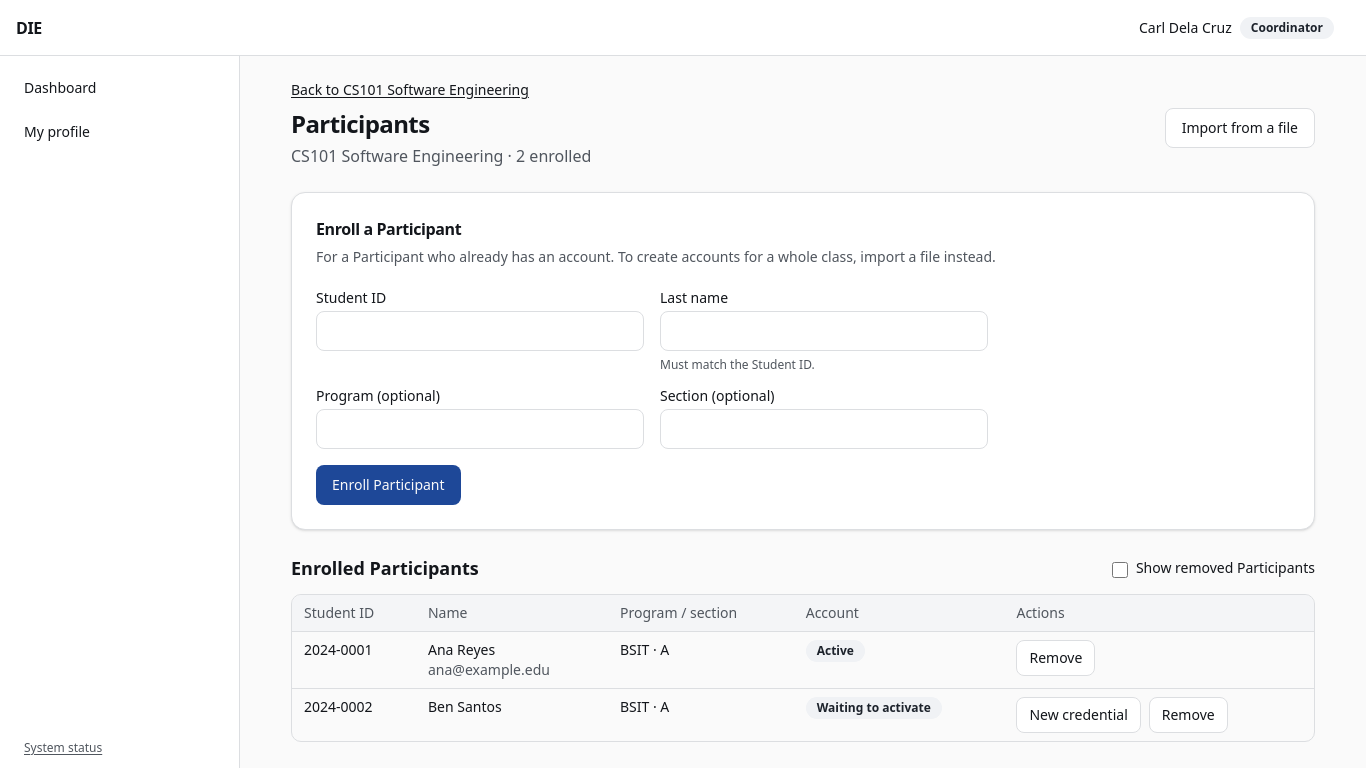
Scenario: Enroll a Participant › shows the API message when nobody matches, without saying which part was wrong
The image size is (1366, 768).
Type "2024-0099" into the field labelled "Student ID" at point(480, 331), box [316,311,644,351]
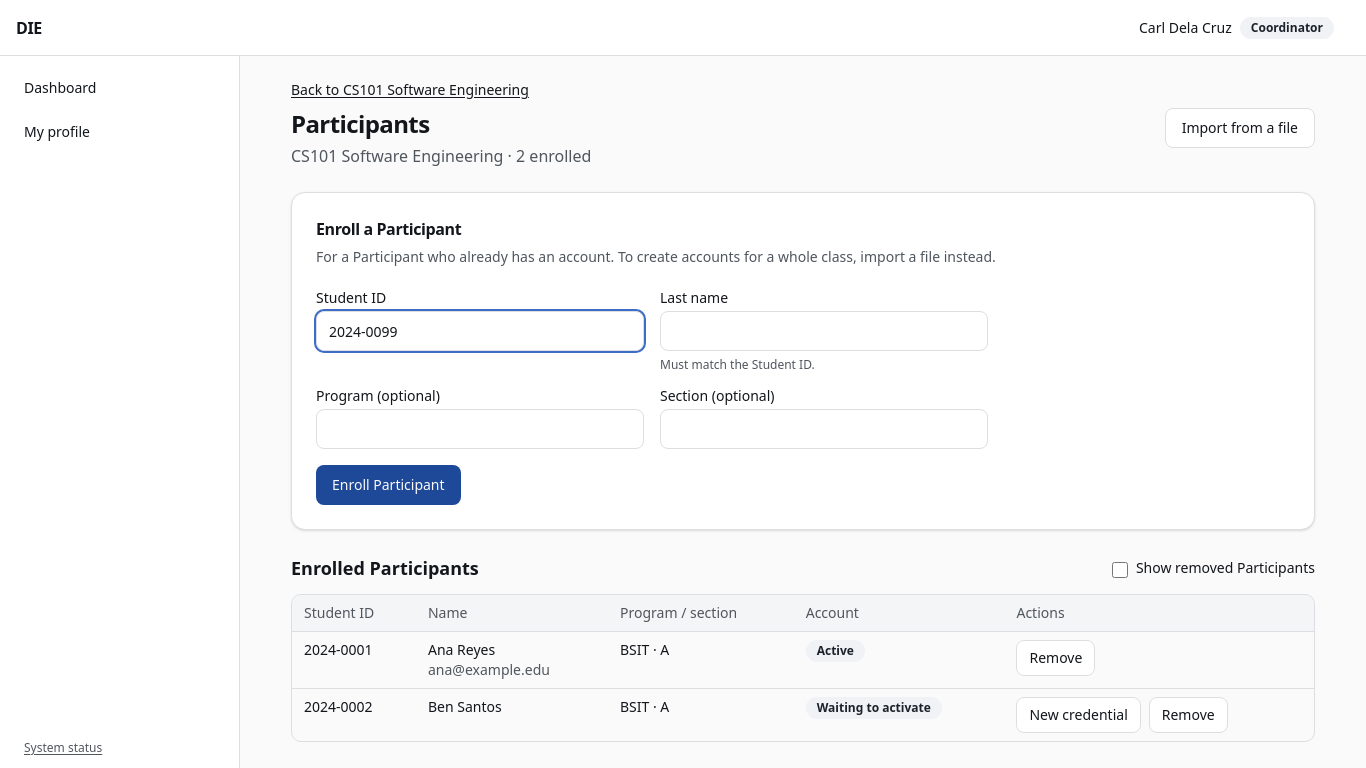
Type "Nobody" into the field labelled "Last name" at point(824, 331), box [660,311,988,351]
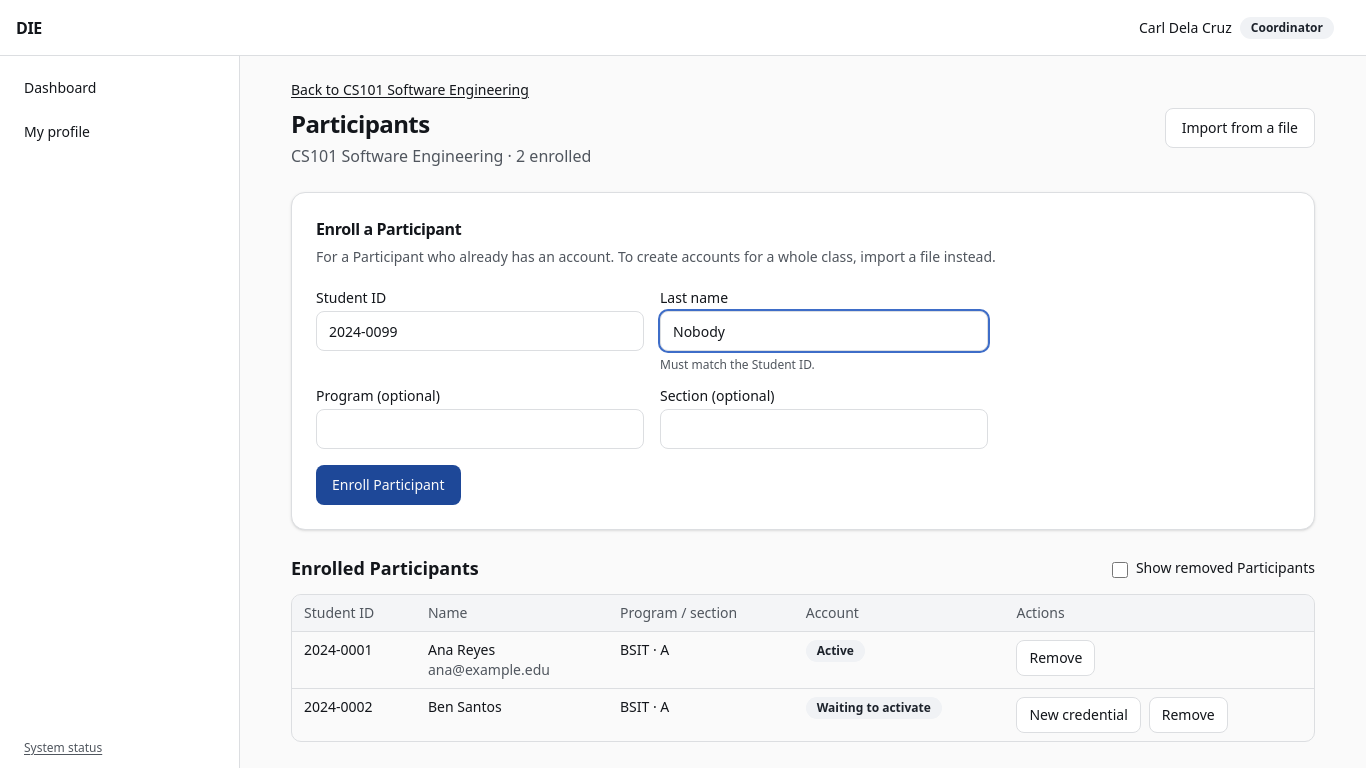
Click the button "Enroll Participant" at point(388, 485), box [316,465,460,505]
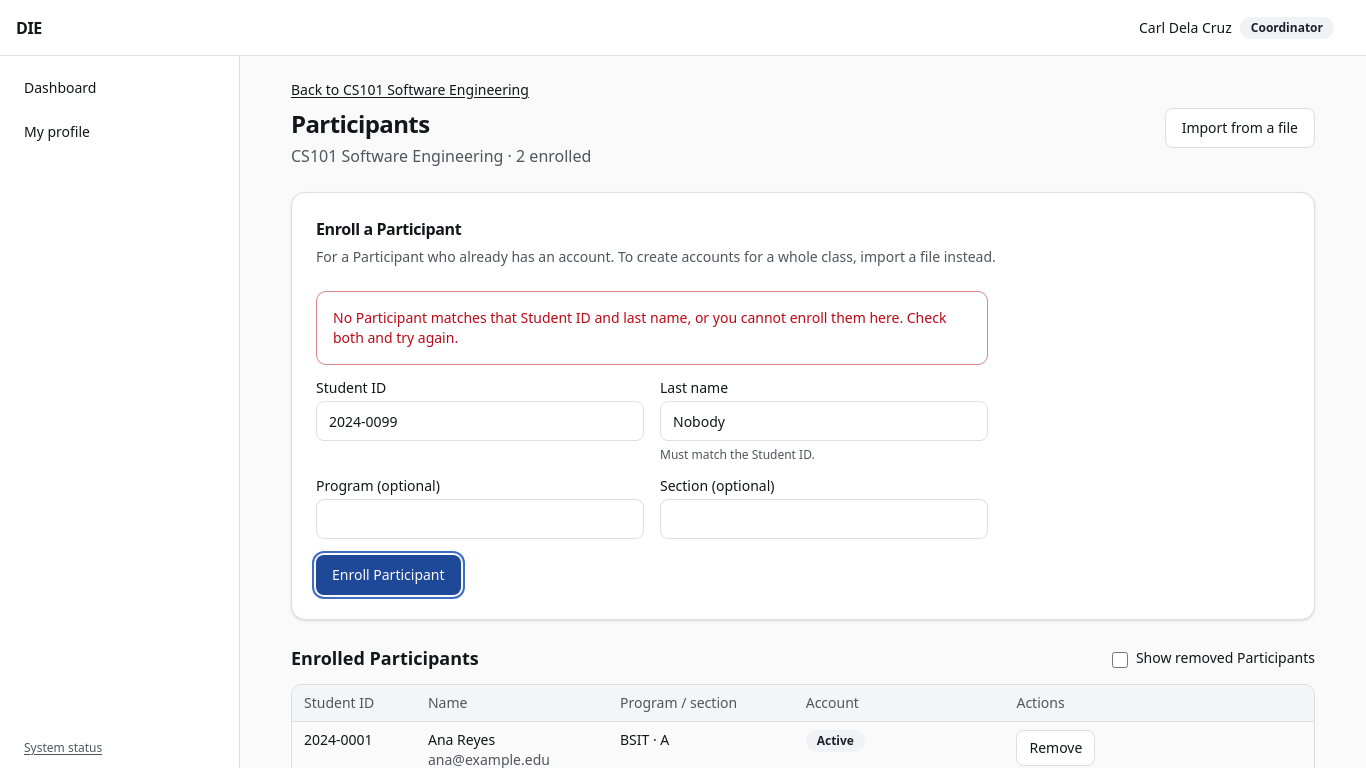
Result: the text "No Participant matches that Student ID and last name" is shown at [333,308,946,347]
